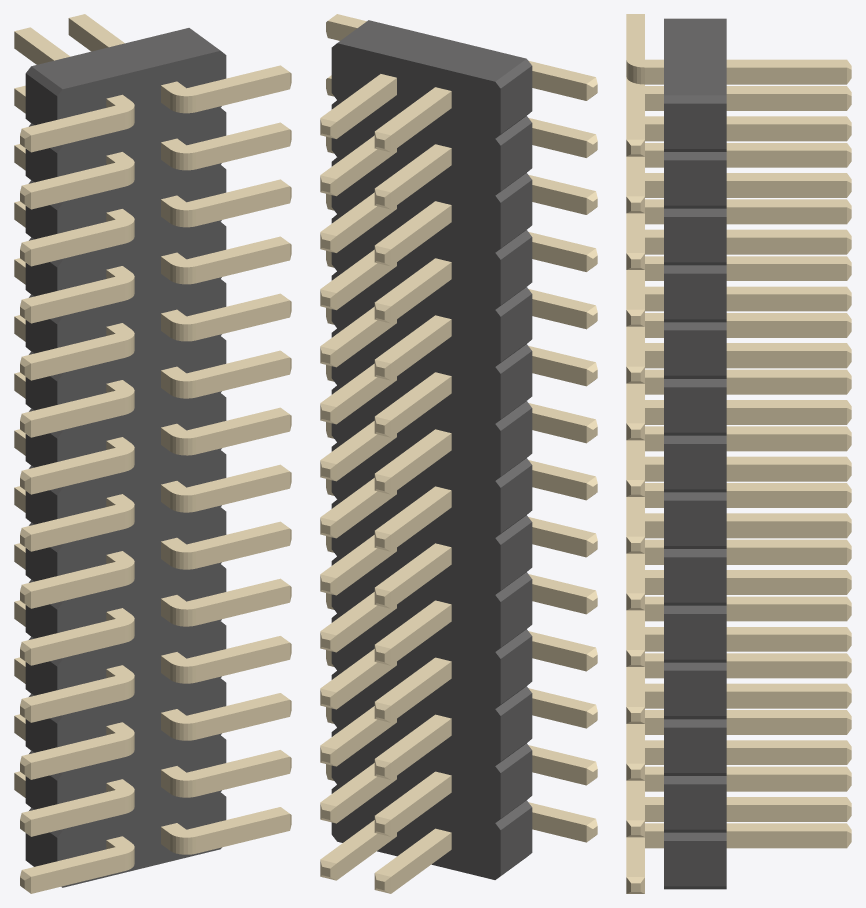
File: PinHeader_2x14_P1.00mm_Vertical_SMD.glb
3 renders of one model, left to right at view 1: azimuth 30°, elevation 25°; view 2: azimuth 150°, elevation 25°; view 3: azimuth 270°, elevation 25°, orthographic.
Visible parts, largest first — view 1: Shape_IndexedFaceSet.003, Shape_IndexedFaceSet.001, Shape_IndexedFaceSet.320, Shape_IndexedFaceSet.365, Shape_IndexedFaceSet.330, Shape_IndexedFaceSet.390, Shape_IndexedFaceSet.345, Shape_IndexedFaceSet.380, Shape_IndexedFaceSet.315, Shape_IndexedFaceSet.350, Shape_IndexedFaceSet.360, Shape_IndexedFaceSet.395 (+64 smaller); view 2: Shape_IndexedFaceSet.004, Shape_IndexedFaceSet.001, Shape_IndexedFaceSet.061, Shape_IndexedFaceSet.055, Shape_IndexedFaceSet.073, Shape_IndexedFaceSet.079, Shape_IndexedFaceSet.085, Shape_IndexedFaceSet.043, Shape_IndexedFaceSet.049, Shape_IndexedFaceSet.067, Shape_IndexedFaceSet.019, Shape_IndexedFaceSet.025 (+88 smaller); view 3: Shape_IndexedFaceSet.001, Shape_IndexedFaceSet.022, Shape_IndexedFaceSet.002, Shape_IndexedFaceSet.010, Shape_IndexedFaceSet.016, Shape_IndexedFaceSet.028, Shape_IndexedFaceSet.034, Shape_IndexedFaceSet.040, Shape_IndexedFaceSet.046, Shape_IndexedFaceSet.052, Shape_IndexedFaceSet.058, Shape_IndexedFaceSet.064 (+88 smaller).
Part boxes in pixels (x1=…): Shape_IndexedFaceSet.003: x1=57, y1=50, x2=226, y2=887; Shape_IndexedFaceSet.001: x1=31, y1=28, x2=220, y2=89; Shape_IndexedFaceSet.320: x1=196, y1=357, x2=289, y2=397; Shape_IndexedFaceSet.365: x1=31, y1=397, x2=124, y2=437; Shape_IndexedFaceSet.330: x1=196, y1=528, x2=289, y2=568; Shape_IndexedFaceSet.390: x1=31, y1=569, x2=124, y2=608; Shape_IndexedFaceSet.345: x1=196, y1=700, x2=289, y2=739; Shape_IndexedFaceSet.380: x1=31, y1=740, x2=124, y2=779; Shape_IndexedFaceSet.315: x1=196, y1=300, x2=289, y2=340; Shape_IndexedFaceSet.350: x1=196, y1=642, x2=289, y2=682; Shape_IndexedFaceSet.360: x1=31, y1=455, x2=124, y2=494; Shape_IndexedFaceSet.395: x1=31, y1=626, x2=124, y2=665; Shape_IndexedFaceSet.004: x1=331, y1=43, x2=500, y2=879; Shape_IndexedFaceSet.001: x1=337, y1=20, x2=526, y2=81; Shape_IndexedFaceSet.061: x1=500, y1=579, x2=532, y2=647; Shape_IndexedFaceSet.055: x1=500, y1=522, x2=532, y2=590; Shape_IndexedFaceSet.073: x1=500, y1=693, x2=532, y2=761; Shape_IndexedFaceSet.079: x1=500, y1=750, x2=532, y2=818; Shape_IndexedFaceSet.085: x1=500, y1=807, x2=532, y2=875; Shape_IndexedFaceSet.043: x1=500, y1=408, x2=532, y2=476; Shape_IndexedFaceSet.049: x1=500, y1=465, x2=532, y2=533; Shape_IndexedFaceSet.067: x1=500, y1=636, x2=532, y2=704; Shape_IndexedFaceSet.019: x1=500, y1=180, x2=532, y2=247; Shape_IndexedFaceSet.025: x1=500, y1=237, x2=532, y2=304; Shape_IndexedFaceSet.001: x1=664, y1=18, x2=726, y2=95; Shape_IndexedFaceSet.022: x1=664, y1=273, x2=726, y2=319; Shape_IndexedFaceSet.002: x1=664, y1=103, x2=726, y2=148; Shape_IndexedFaceSet.010: x1=664, y1=160, x2=726, y2=205; Shape_IndexedFaceSet.016: x1=664, y1=217, x2=726, y2=262; Shape_IndexedFaceSet.028: x1=664, y1=330, x2=726, y2=375; Shape_IndexedFaceSet.034: x1=664, y1=387, x2=726, y2=432; Shape_IndexedFaceSet.040: x1=664, y1=444, x2=726, y2=489; Shape_IndexedFaceSet.046: x1=664, y1=500, x2=726, y2=545; Shape_IndexedFaceSet.052: x1=664, y1=557, x2=726, y2=602; Shape_IndexedFaceSet.058: x1=664, y1=614, x2=726, y2=659; Shape_IndexedFaceSet.064: x1=664, y1=670, x2=726, y2=715.
Bounding box in the file's own units: 1.93 × 5.51 × 1.42.
